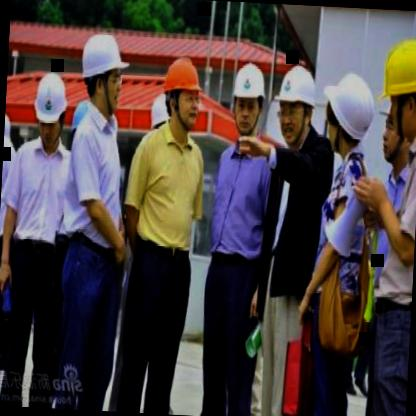helmet: (322, 71, 374, 164), (374, 31, 416, 144), (76, 26, 126, 115), (274, 62, 323, 145), (159, 53, 204, 132), (226, 60, 270, 138), (31, 68, 69, 154)
